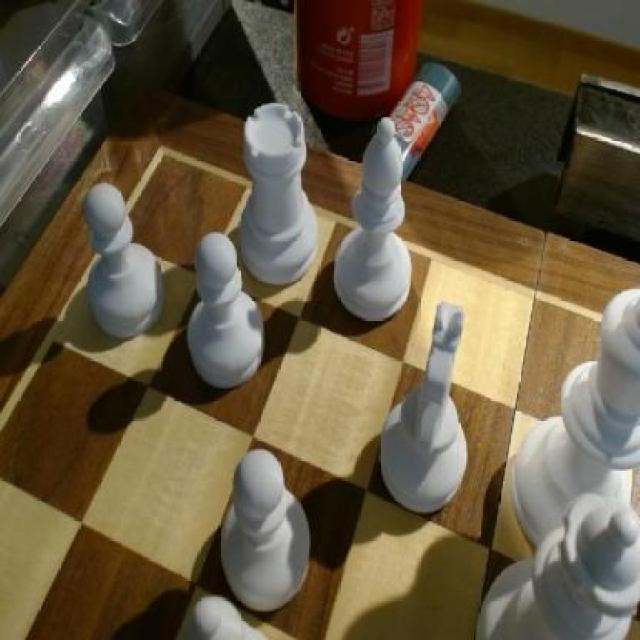black-rook: (334, 115, 421, 320)
white-bishop: (514, 283, 639, 559)
white-king: (376, 302, 474, 520)
white-knight: (220, 449, 314, 611), (86, 180, 169, 341), (184, 234, 264, 386)
white-pawn: (476, 496, 640, 640)
white-queen: (243, 106, 320, 294)
